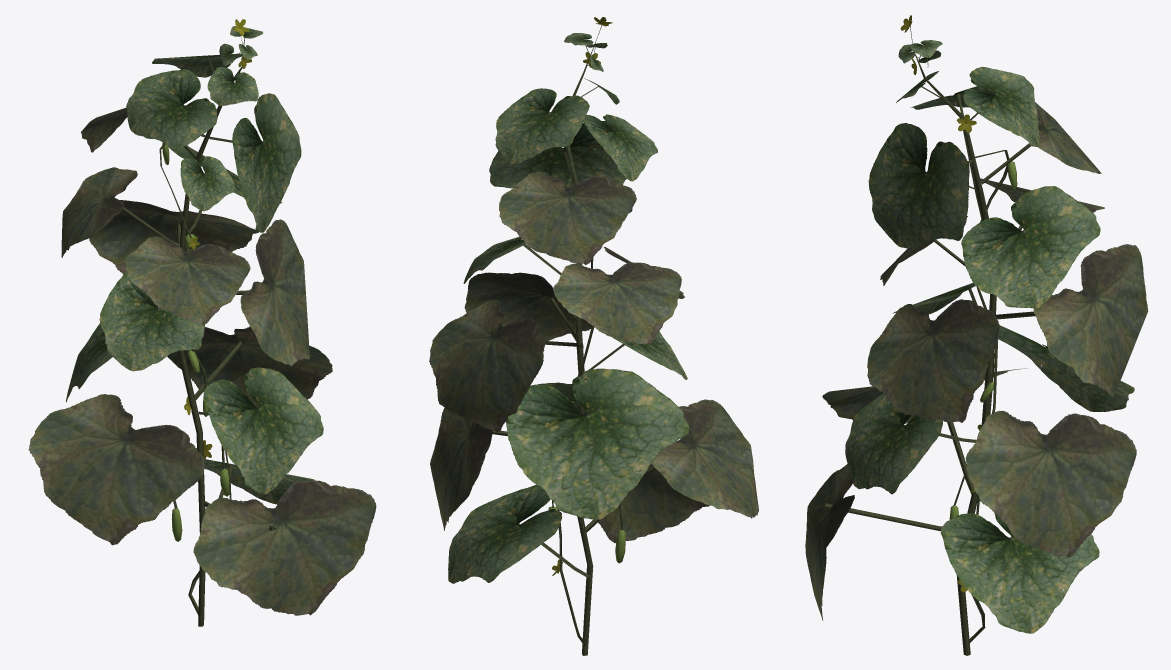
The model's file is cucumber_plant_2.fbx.
3 views of the same model, side by side, from view 1: azimuth 30°, elevation 25°; view 2: azimuth 150°, elevation 25°; view 3: azimuth 270°, elevation 25° (orthographic). The views are drawn at different scales.
Visible parts, largest first — view 1: cucumber_plant_2; view 2: cucumber_plant_2; view 3: cucumber_plant_2.
Boxes of the visible parts, <box> form: cucumber_plant_2: <box>28,19,376,626</box>; cucumber_plant_2: <box>429,17,758,655</box>; cucumber_plant_2: <box>805,15,1148,655</box>.
Size of the model in its own units: 0.6124 by 1.11 by 0.5731.
